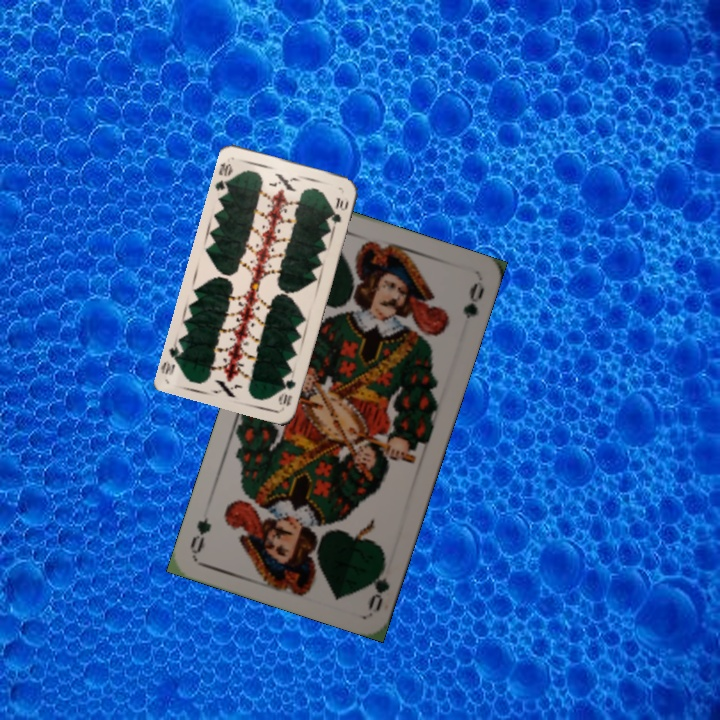G10: (211, 158, 235, 198), (275, 375, 298, 409)
GO: (363, 553, 392, 613)
